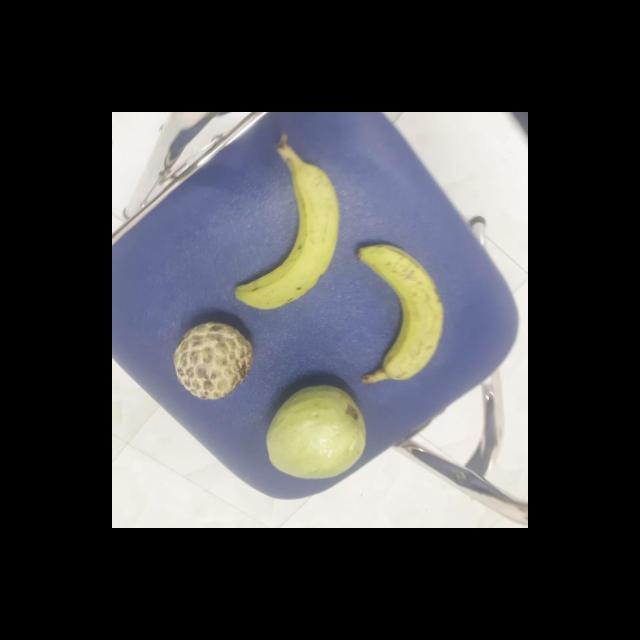Sakya fruit: (170, 322, 252, 401)
banana: (232, 158, 338, 308), (355, 246, 444, 386)
guava: (264, 382, 366, 483)
